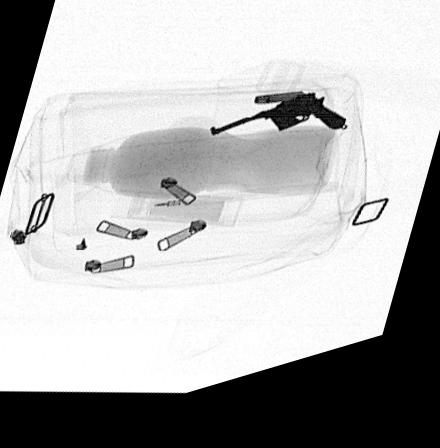Gun: (207, 109, 348, 149)
